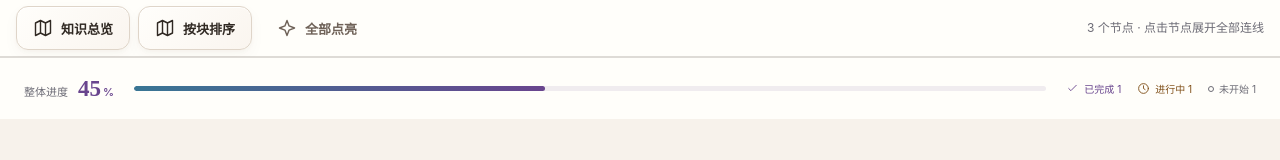
Test case: can cancel a pending save and displays the unchanged server result without leaving an undo operation
The image size is (1280, 160).
Click the button "全部点亮" at (317, 28), box [260,6,374,50]
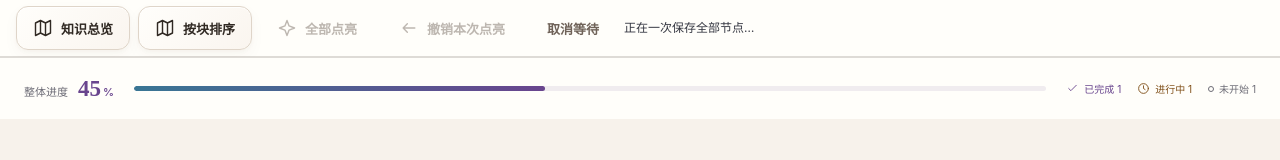
Click the button "取消等待" at (573, 28), box [530,6,616,50]
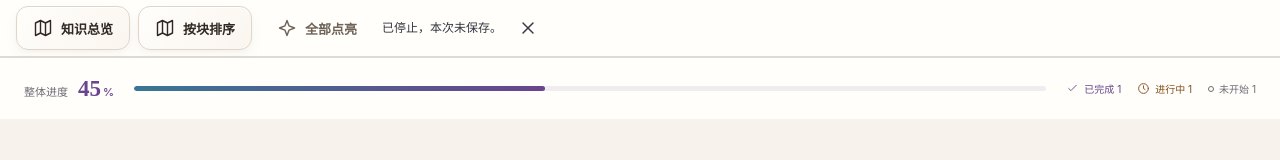
Result: the text "已停止，本次未保存。" is shown at [382,19,502,37]
Result: the button "撤销本次点亮" is gone
Result: the button "全部点亮" is enabled at [260,6,374,50]
